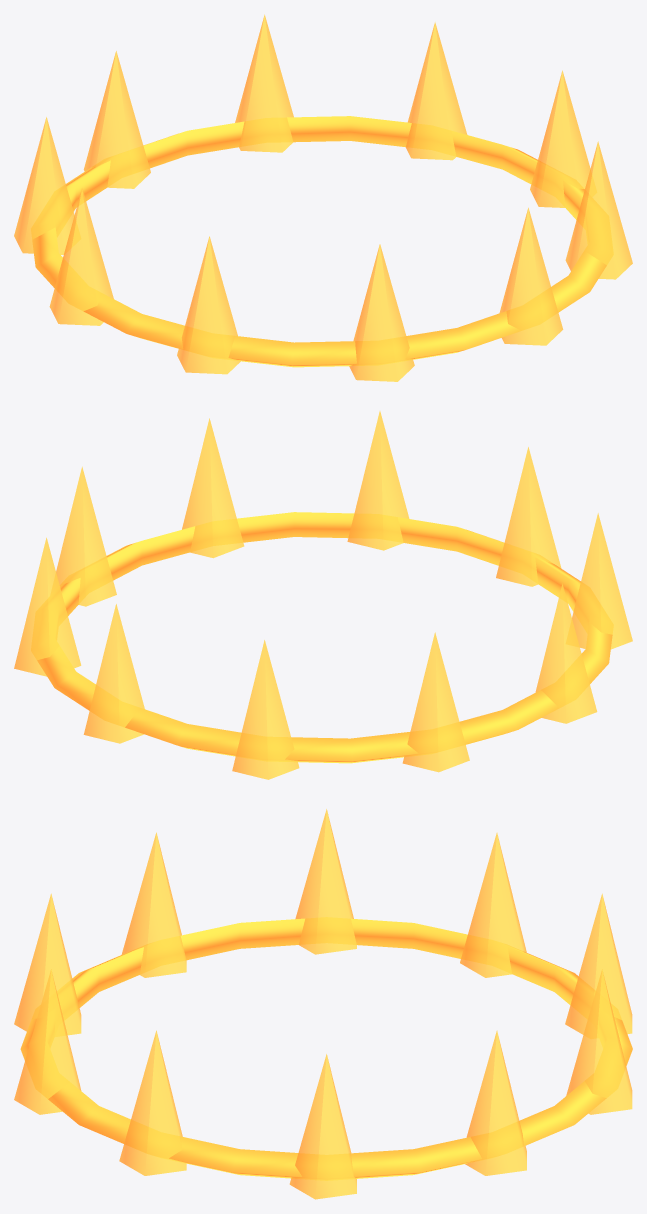
The model's file is fx_elite_fire.glb.
The picture shows the model from 3 angles, top to bottom: view 1: azimuth 30°, elevation 25°; view 2: azimuth 150°, elevation 25°; view 3: azimuth 270°, elevation 25°; orthographic projection. The views are drawn at different scales.
Parts seen in each view (by area): view 1: auraRing_ring, ringFlame3_flame, ringFlame4_flame, ringFlame2_flame, ringFlame8_flame, ringFlame9_flame, ringFlame7_flame, ringFlame5_flame, ringFlame1_flame, ringFlame0_flame, ringFlame6_flame; view 2: auraRing_ring, ringFlame7_flame, ringFlame6_flame, ringFlame2_flame, ringFlame1_flame, ringFlame8_flame, ringFlame3_flame, ringFlame5_flame, ringFlame0_flame, ringFlame9_flame, ringFlame4_flame; view 3: auraRing_ring, ringFlame0_flame, ringFlame1_flame, ringFlame5_flame, ringFlame9_flame, ringFlame6_flame, ringFlame4_flame, ringFlame8_flame, ringFlame2_flame, ringFlame3_flame, ringFlame7_flame.
Part boxes in pixels (left/top/right/bottom): auraRing_ring: left=32, top=116, right=612, bottom=367; ringFlame3_flame: left=349, top=244, right=414, bottom=381; ringFlame4_flame: left=177, top=236, right=240, bottom=374; ringFlame2_flame: left=499, top=207, right=563, bottom=345; ringFlame8_flame: left=235, top=14, right=293, bottom=152; ringFlame9_flame: left=405, top=22, right=467, bottom=160; ringFlame7_flame: left=83, top=51, right=150, bottom=188; ringFlame5_flame: left=49, top=187, right=113, bottom=325; ringFlame1_flame: left=565, top=141, right=632, bottom=279; ringFlame0_flame: left=530, top=70, right=590, bottom=207; ringFlame6_flame: left=14, top=117, right=74, bottom=254; auraRing_ring: left=31, top=512, right=612, bottom=763; ringFlame7_flame: left=232, top=640, right=299, bottom=779; ringFlame6_flame: left=402, top=632, right=469, bottom=772; ringFlame2_flame: left=347, top=411, right=409, bottom=550; ringFlame1_flame: left=182, top=418, right=244, bottom=558; ringFlame8_flame: left=83, top=604, right=144, bottom=743; ringFlame3_flame: left=496, top=447, right=561, bottom=586; ringFlame5_flame: left=535, top=583, right=597, bottom=723; ringFlame0_flame: left=56, top=466, right=116, bottom=606; ringFlame9_flame: left=14, top=537, right=81, bottom=676; ringFlame4_flame: left=572, top=513, right=632, bottom=649; auraRing_ring: left=20, top=918, right=632, bottom=1180; ringFlame0_flame: left=289, top=1054, right=356, bottom=1199; ringFlame1_flame: left=119, top=1030, right=186, bottom=1175; ringFlame5_flame: left=295, top=809, right=356, bottom=954; ringFlame9_flame: left=465, top=1030, right=526, bottom=1175; ringFlame6_flame: left=460, top=832, right=526, bottom=977; ringFlame4_flame: left=121, top=832, right=186, bottom=977; ringFlame8_flame: left=566, top=969, right=632, bottom=1114; ringFlame2_flame: left=14, top=969, right=81, bottom=1114; ringFlame3_flame: left=14, top=893, right=81, bottom=1035; ringFlame7_flame: left=565, top=893, right=632, bottom=1034.
Bounding box in the file's own units: 1.57 × 0.35 × 1.5.
